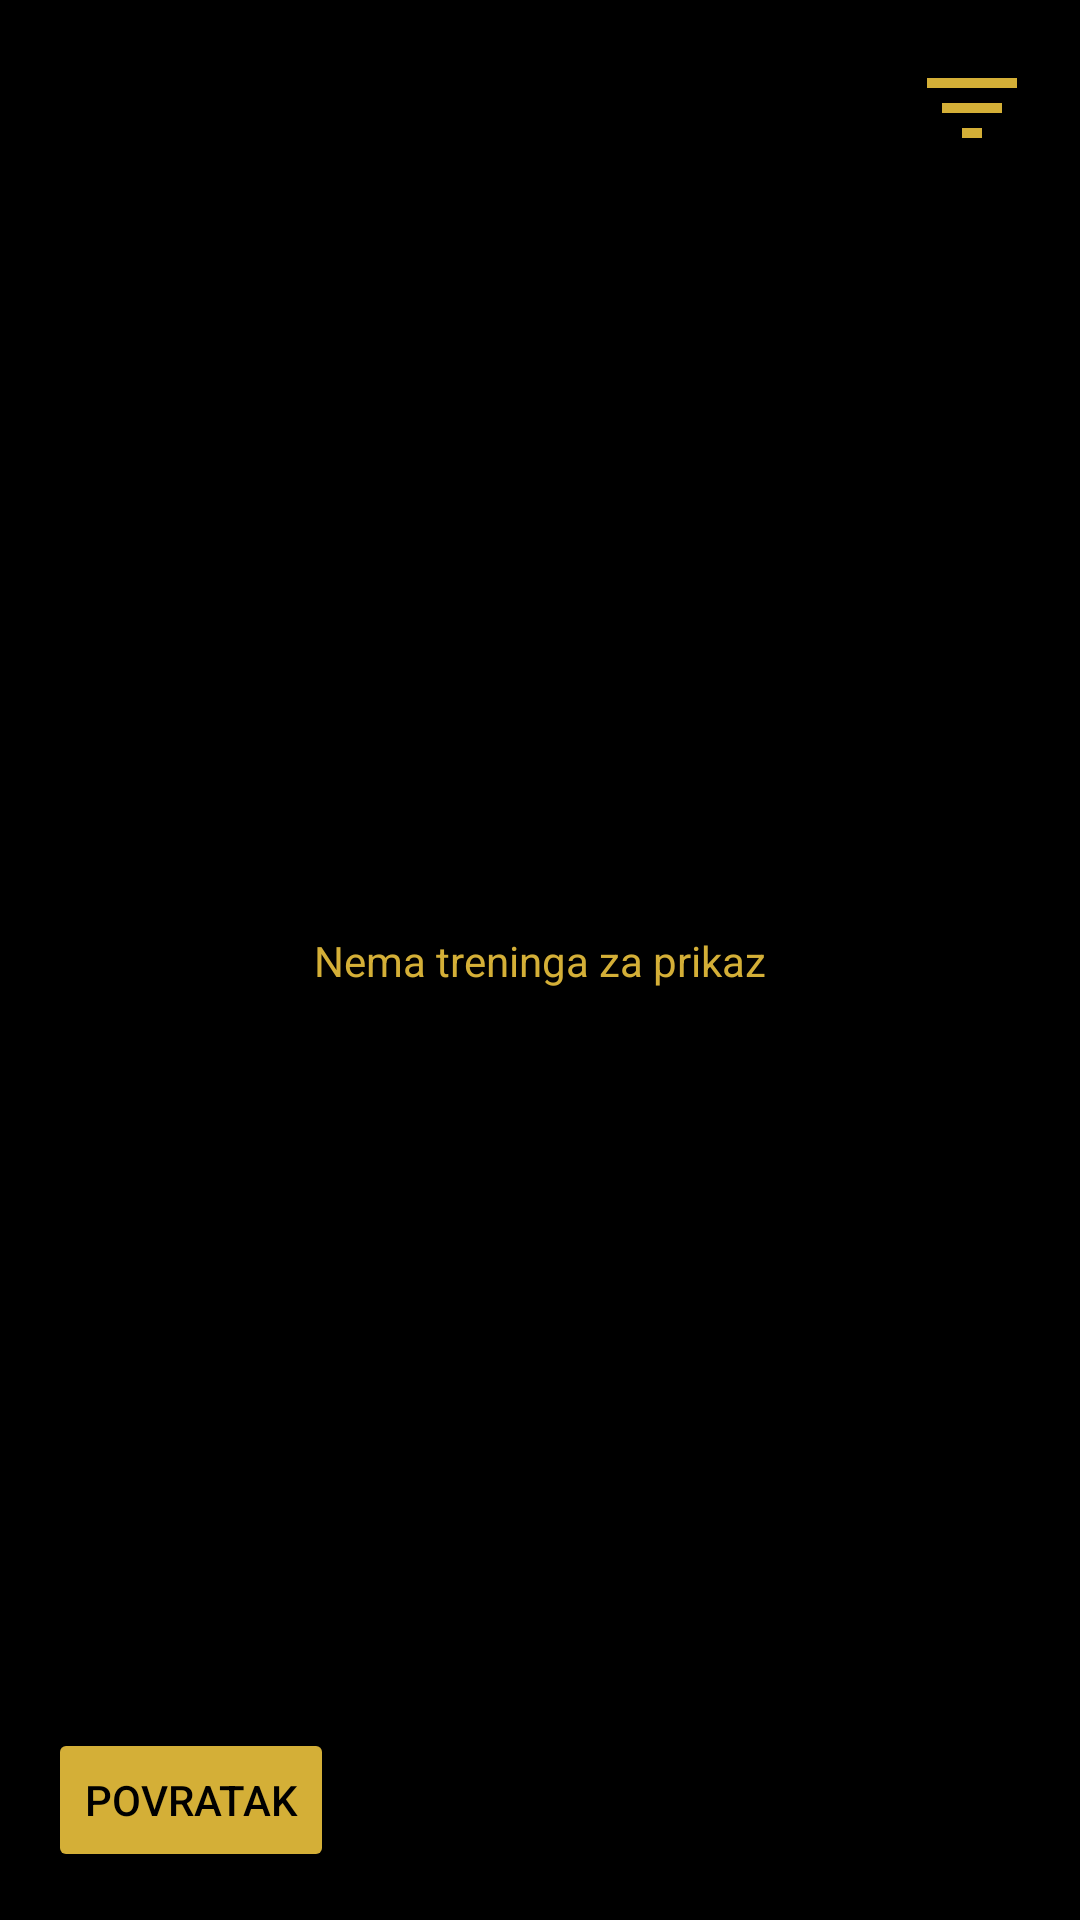

Icon bounding boxes for this 1080*1920 phone screenshot, format [x1,y1,x2,y2]:
filter list: [927,78,1017,138]
